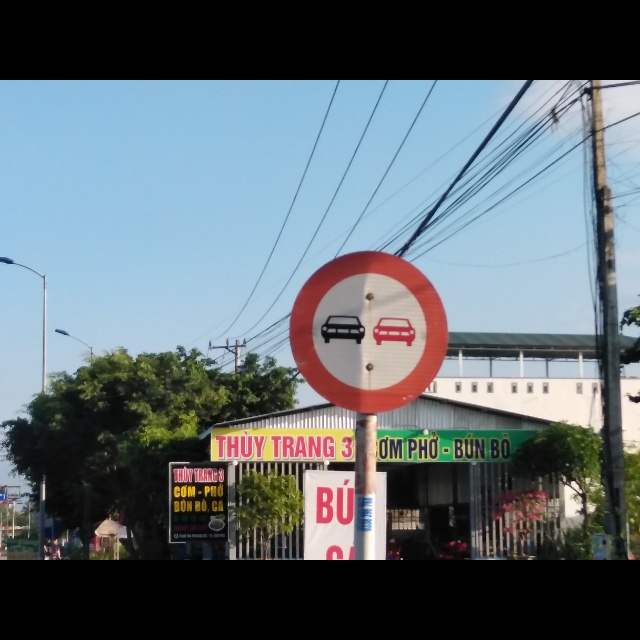Cấm vượt: (287, 249, 447, 414)
